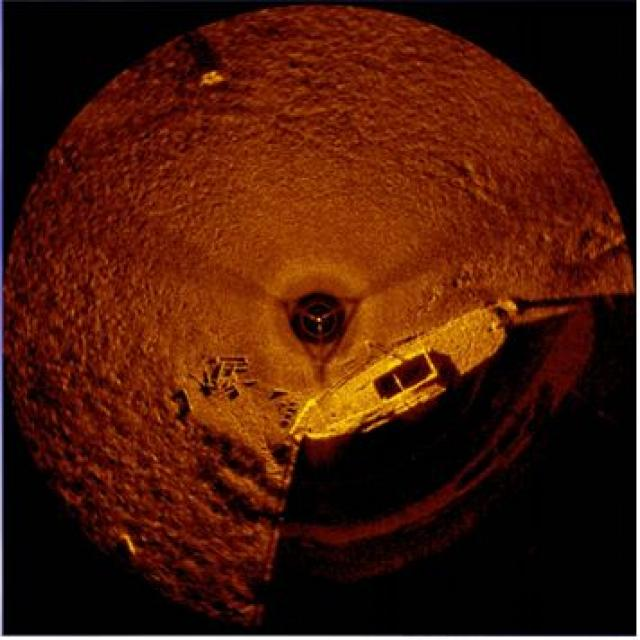ship: (284, 298, 511, 442)
